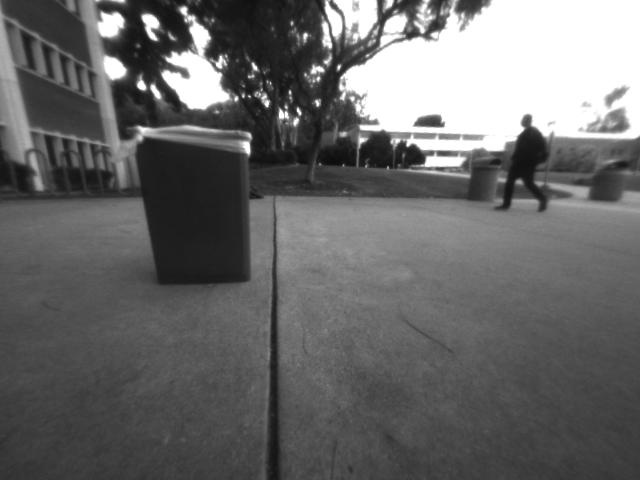trashcan: (117, 116, 263, 296)
